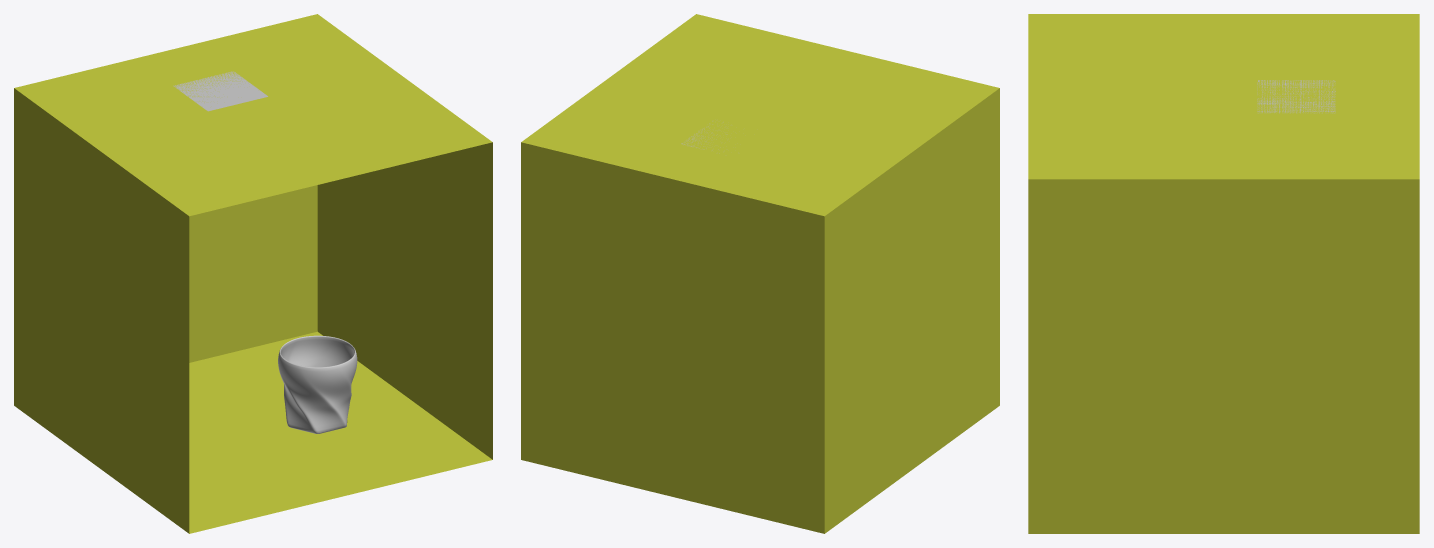
Rendered from glass_cornellbox2.obj.
The picture shows the model from 3 angles, left to right: view 1: azimuth 30°, elevation 25°; view 2: azimuth 150°, elevation 25°; view 3: azimuth 270°, elevation 25°; orthographic projection. The views are drawn at different scales.
Parts seen in each view (by area): view 1: leftwall, ceiling, rightwall, ground, backwall, upright_glass, light; view 2: backwall, leftwall, ceiling; view 3: rightwall, ceiling, light.
Boxes of the visible parts, left/top/right/bottom form: leftwall: left=14, top=88, right=189, bottom=533; ceiling: left=14, top=14, right=492, bottom=216; rightwall: left=317, top=142, right=492, bottom=459; ground: left=189, top=331, right=492, bottom=533; backwall: left=189, top=185, right=317, bottom=362; upright_glass: left=278, top=335, right=357, bottom=433; light: left=173, top=71, right=267, bottom=111; backwall: left=521, top=142, right=824, bottom=533; leftwall: left=824, top=88, right=999, bottom=533; ceiling: left=521, top=14, right=999, bottom=216; rightwall: left=1028, top=179, right=1419, bottom=533; ceiling: left=1028, top=14, right=1419, bottom=179; light: left=1257, top=80, right=1335, bottom=113.
Bounding box in the file's own units: 10 × 10 × 10.
